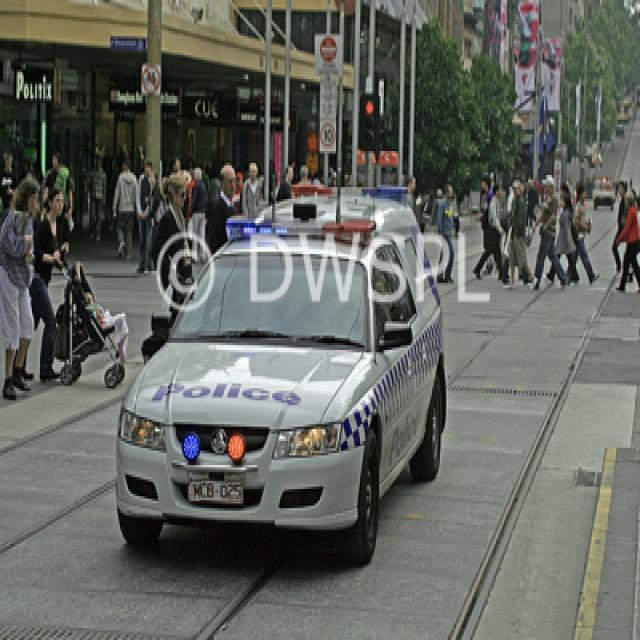licence: (187, 474, 243, 504)
